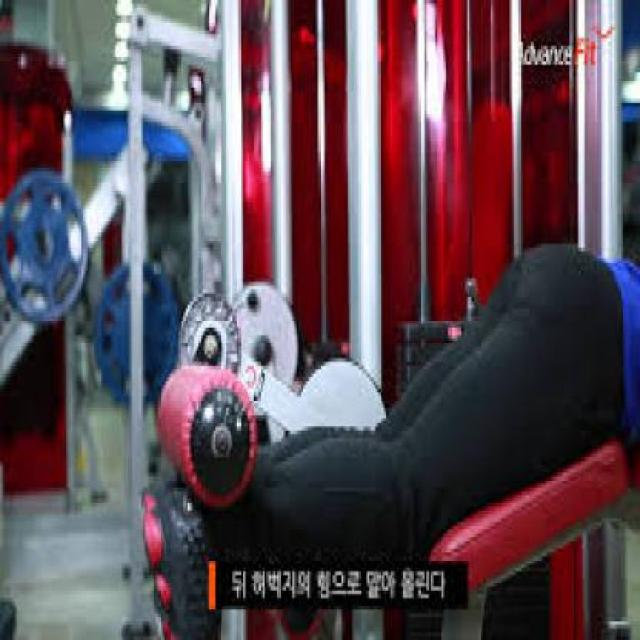reg curl machine: (143, 222, 640, 632)
